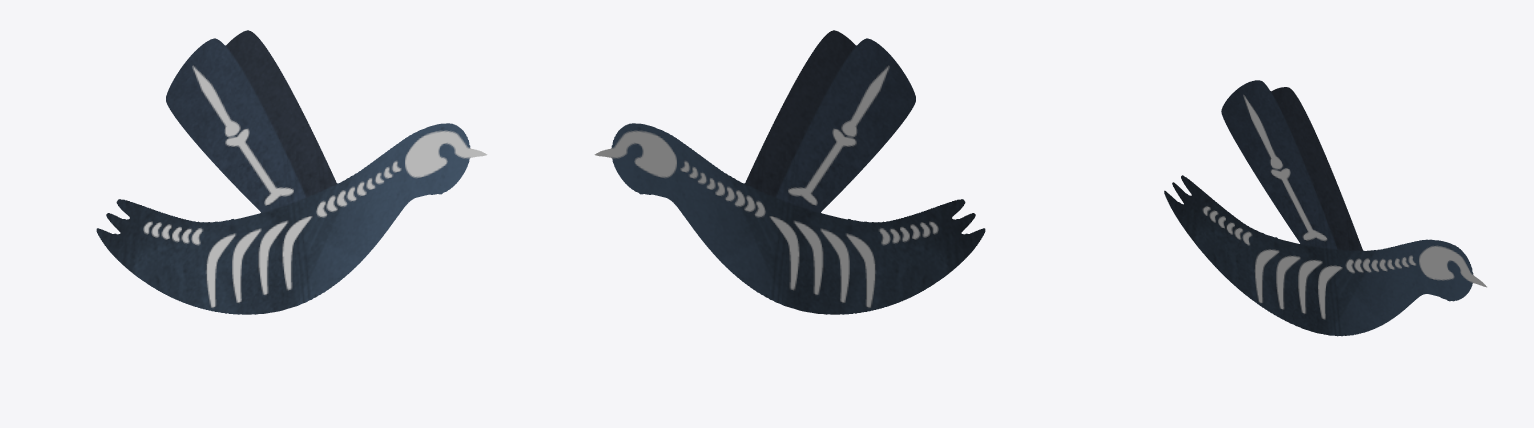
File: ocell_electro.FBX
The picture shows the model from 3 angles, left to right: view 1: azimuth 30°, elevation 25°; view 2: azimuth 150°, elevation 25°; view 3: azimuth 330°, elevation 25°; orthographic projection. The views are drawn at different scales.
Visible parts, largest first — view 1: ocell_eletro; view 2: ocell_eletro; view 3: ocell_eletro.
Part boxes in pixels (x1=…): ocell_eletro: x1=96, y1=30, x2=487, y2=314; ocell_eletro: x1=594, y1=30, x2=985, y2=314; ocell_eletro: x1=1164, y1=80, x2=1486, y2=336.
Size of the model in its own units: 7.53 by 0 by 5.03.
